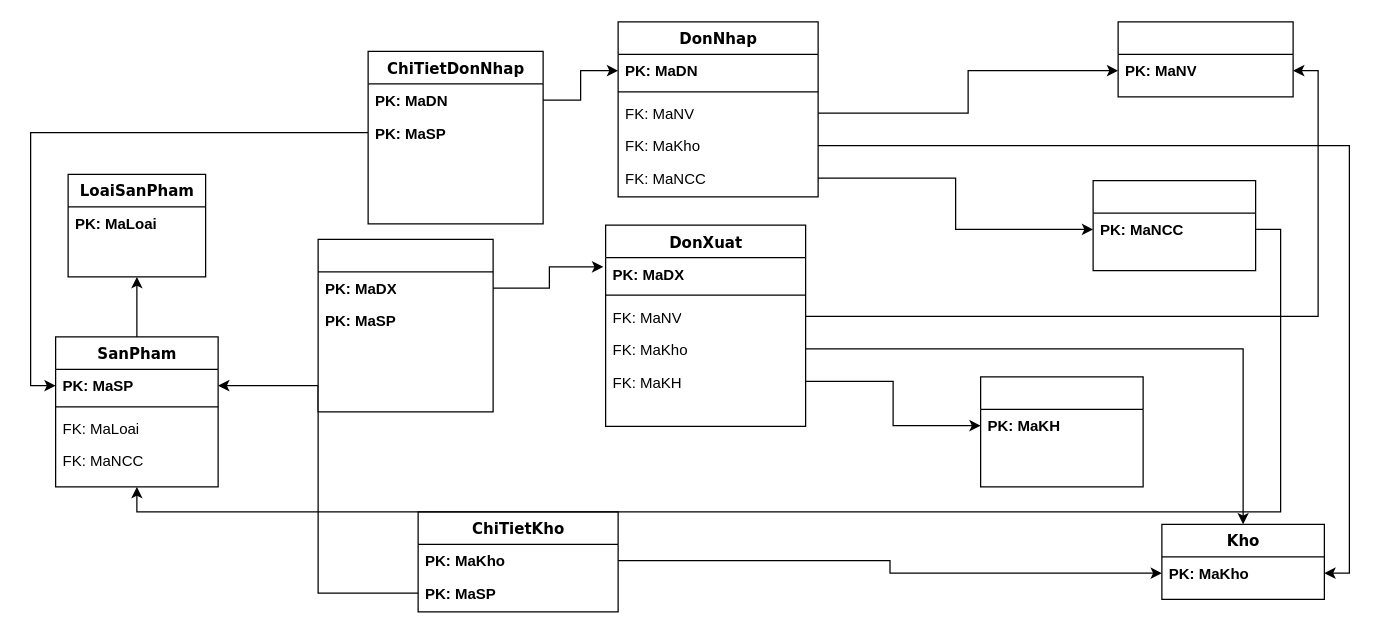
Image size: 1381x635. Some labels were removed from this diagram. The shapes that lost their labels are listed below. From the top down, each one's box as (x1, y1, x2, y2) in pixels, then its label:
(1117, 21, 1293, 97): NhanVien
(1092, 179, 1256, 271): NhaCungCap
(317, 238, 493, 412): ChiTietDonXuat
(979, 376, 1143, 487): KhachHang
